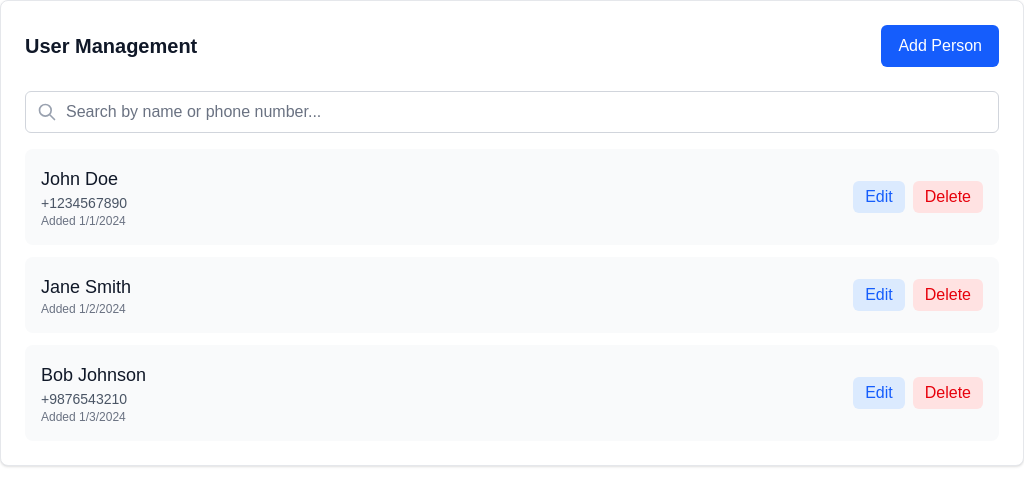
Test: UserManagement › Search Functionality › filters persons by name
In the field with placeholder "Search by name or phone number...": (512, 112) 25,91 -> 999,133, type "Doe"
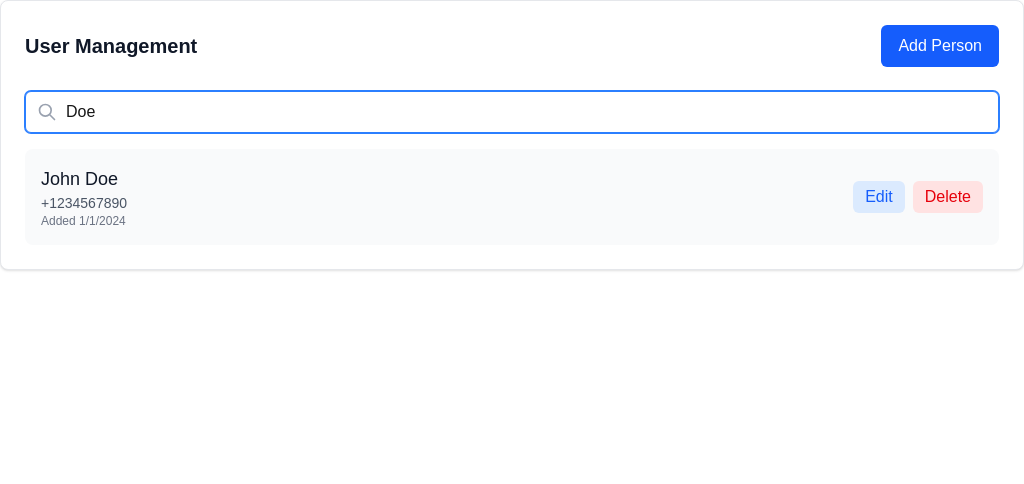
expect the heading "John Doe" is shown: met, box 41,169 -> 118,189
expect the heading "Jane Smith" is gone: met
expect the heading "Bob Johnson" is gone: met
